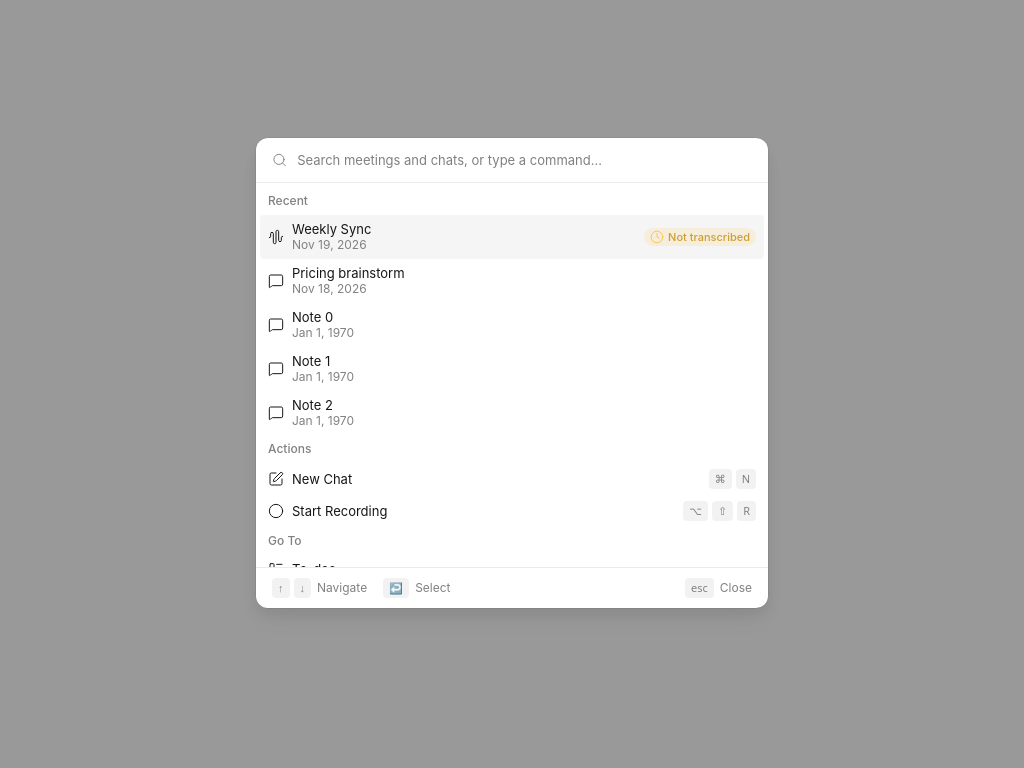
CommandPalette › a kind with more than five matches shows five, then Show All N
The image size is (1024, 768).
Step 1. Type "note" into the dropdown → (525, 160), box [297,138,752,182]
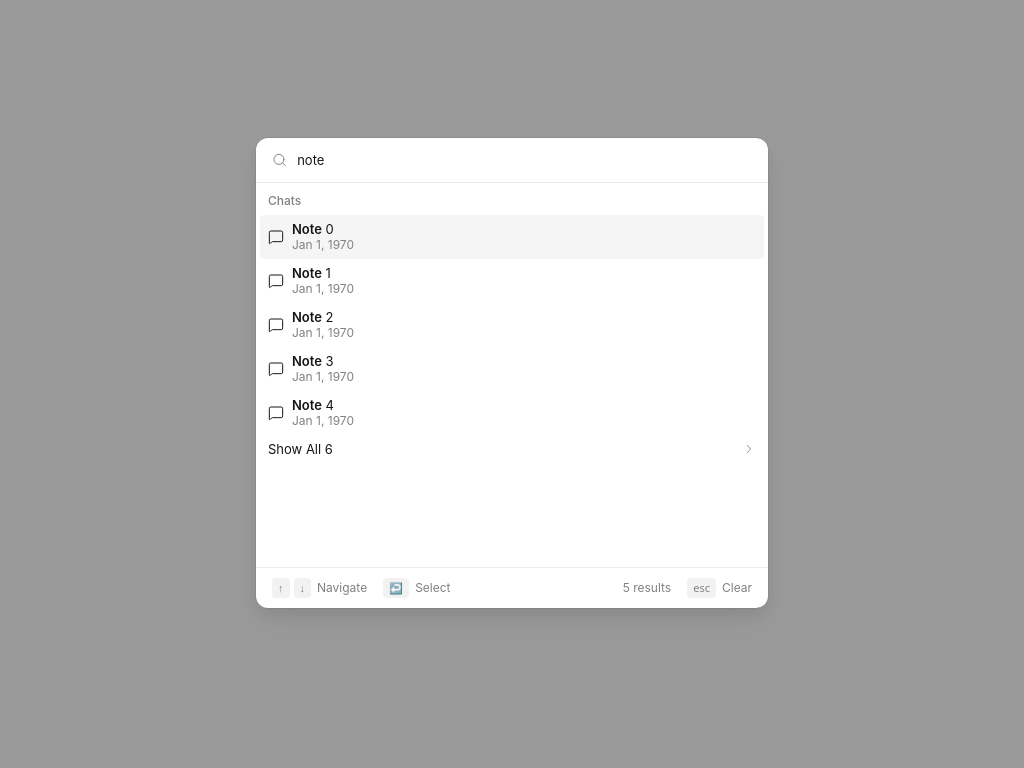
Check: the text "Show All 6" is shown, box [268,441,333,457]
